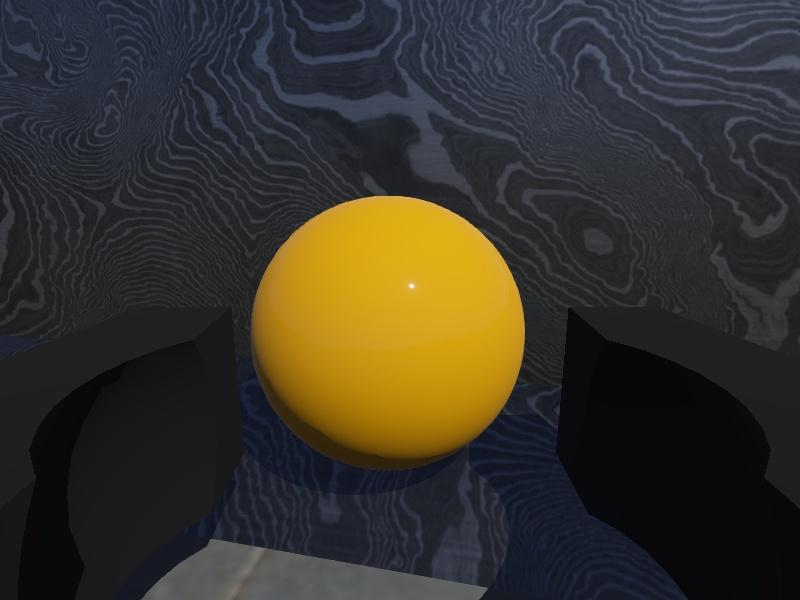orange ball: (248, 194, 527, 473)
